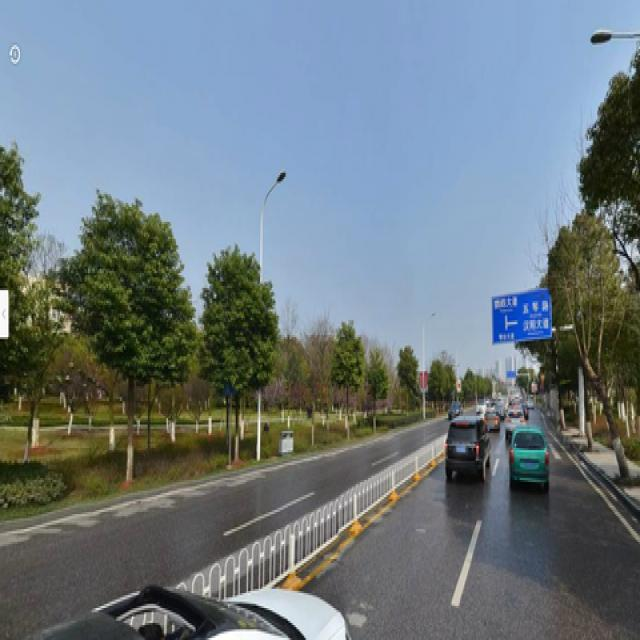cinn: (100, 218, 169, 482), (203, 250, 265, 469), (331, 318, 360, 437)
